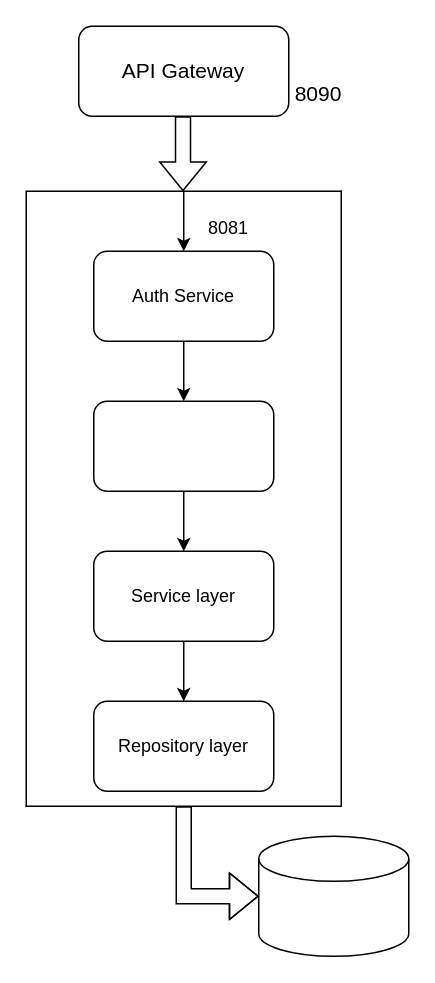
The diagram is 435 pixels wide and 983 high, and some of its shapes have lost their labels. The shapes that lost their labels are listed below. From the top down, each one's centre as x and y in pixels, then its label:
(x=183, y=445): Controller layer
(x=333, y=895): User DB
